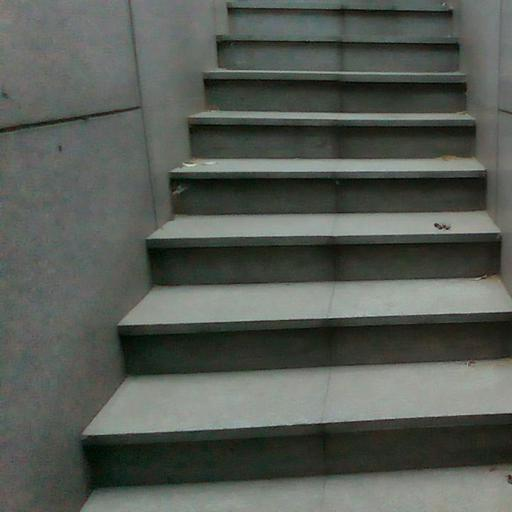stairs: (83, 0, 511, 511)
